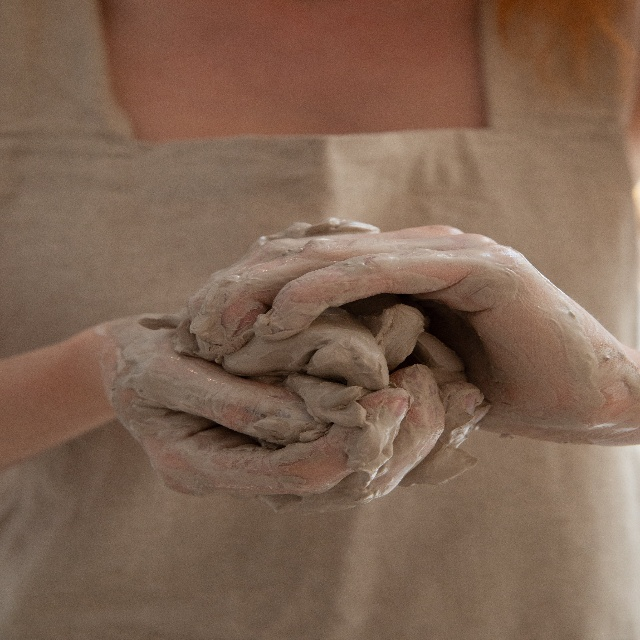Sin_guantes: (184, 225, 633, 432), (122, 301, 487, 495)
